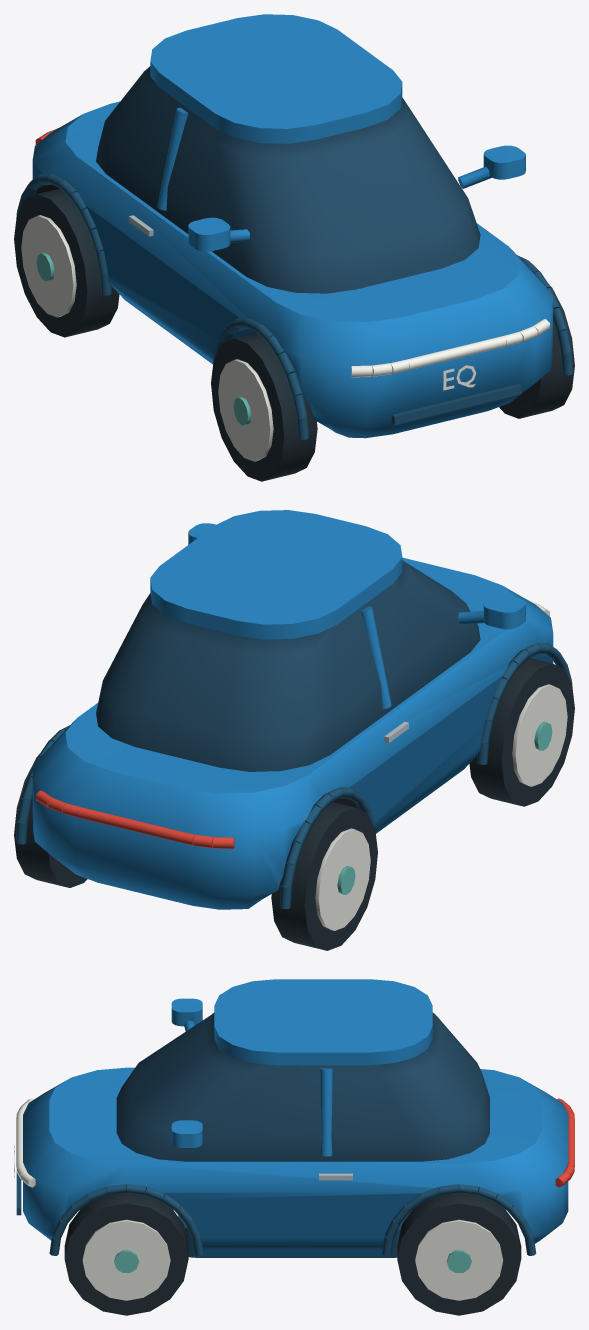
The model's file is car-blue-low.glb.
3 views of the same model, one above another, from view 1: azimuth 30°, elevation 25°; view 2: azimuth 150°, elevation 25°; view 3: azimuth 270°, elevation 25° (orthographic). The views are drawn at different scales.
Visible parts, largest first — view 1: sculpted electric body, sloping panoramic cabin, electric tire, aero wheel cover, battery underbody, wheel centre; view 2: sculpted electric body, sloping panoramic cabin, electric tire, aero wheel cover, battery underbody, conforming LED ribbon.012, wheel centre; view 3: sculpted electric body, sloping panoramic cabin, electric tire, aero wheel cover, battery underbody, wheel centre, conforming LED ribbon.012.
Boxes of the visible parts, x1,y1,x2,y2 form: sculpted electric body: (32,14,553,438); sloping panoramic cabin: (96,66,480,293); electric tire: (14,188,574,481); aero wheel cover: (21,215,549,461); battery underbody: (16,174,573,439); wheel centre: (36,252,251,425); sculpted electric body: (32,510,553,909); sloping panoramic cabin: (96,560,480,771); electric tire: (14,657,574,950); aero wheel cover: (315,599,567,930); battery underbody: (15,643,572,908); conforming LED ribbon.012: (35,790,234,848); wheel centre: (337,721,552,894); sculpted electric body: (23,979,568,1256); sloping panoramic cabin: (116,1012,489,1161); electric tire: (64,1192,521,1315); aero wheel cover: (14,1098,503,1300); battery underbody: (16,1172,536,1257); wheel centre: (114,1250,471,1272); conforming LED ribbon.012: (555,1098,574,1187).
Bounding box in the file's own units: 1.03 × 0.8545 × 1.81.
